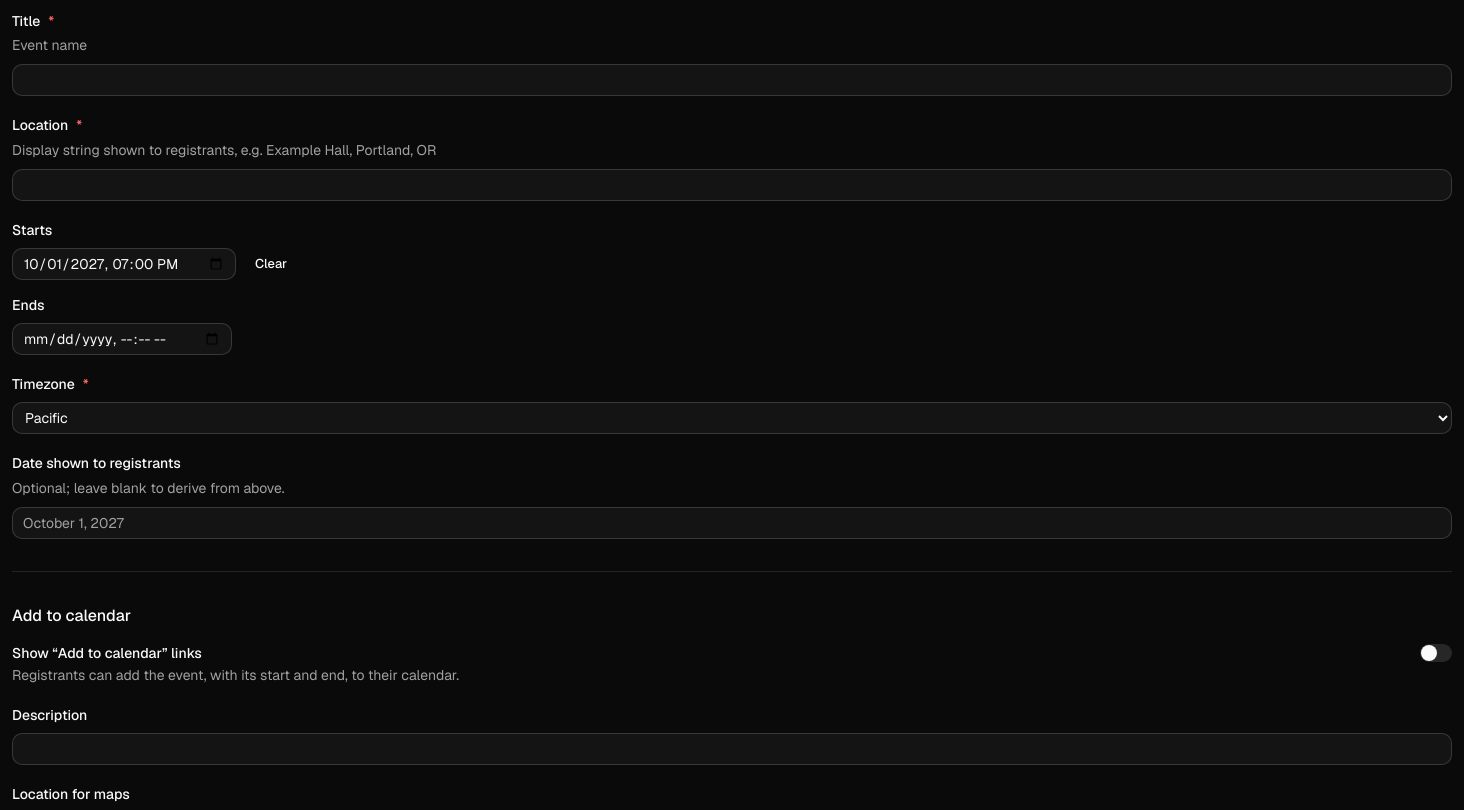
Test case: EventForm › start and end › flags an end before the start and doesn't save it
The width and height of the screenshot is (1464, 810).
Type "2027-09-30T15:00" into the field with id "event-end".
click(122, 339); type("2027-09-30T15:00")  # box [12, 323, 232, 355]
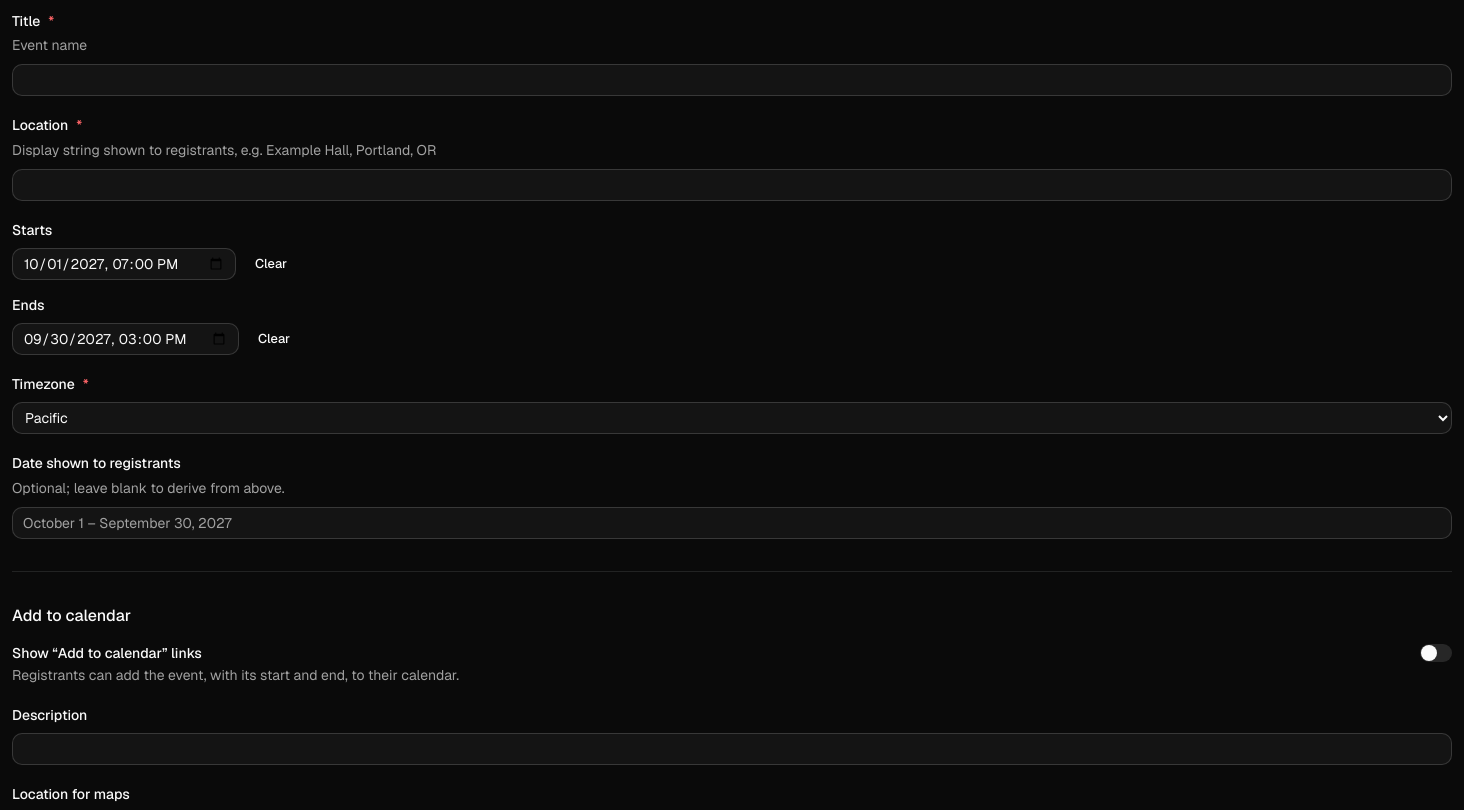
Leave the field with id "event-end", box [12, 323, 239, 355]
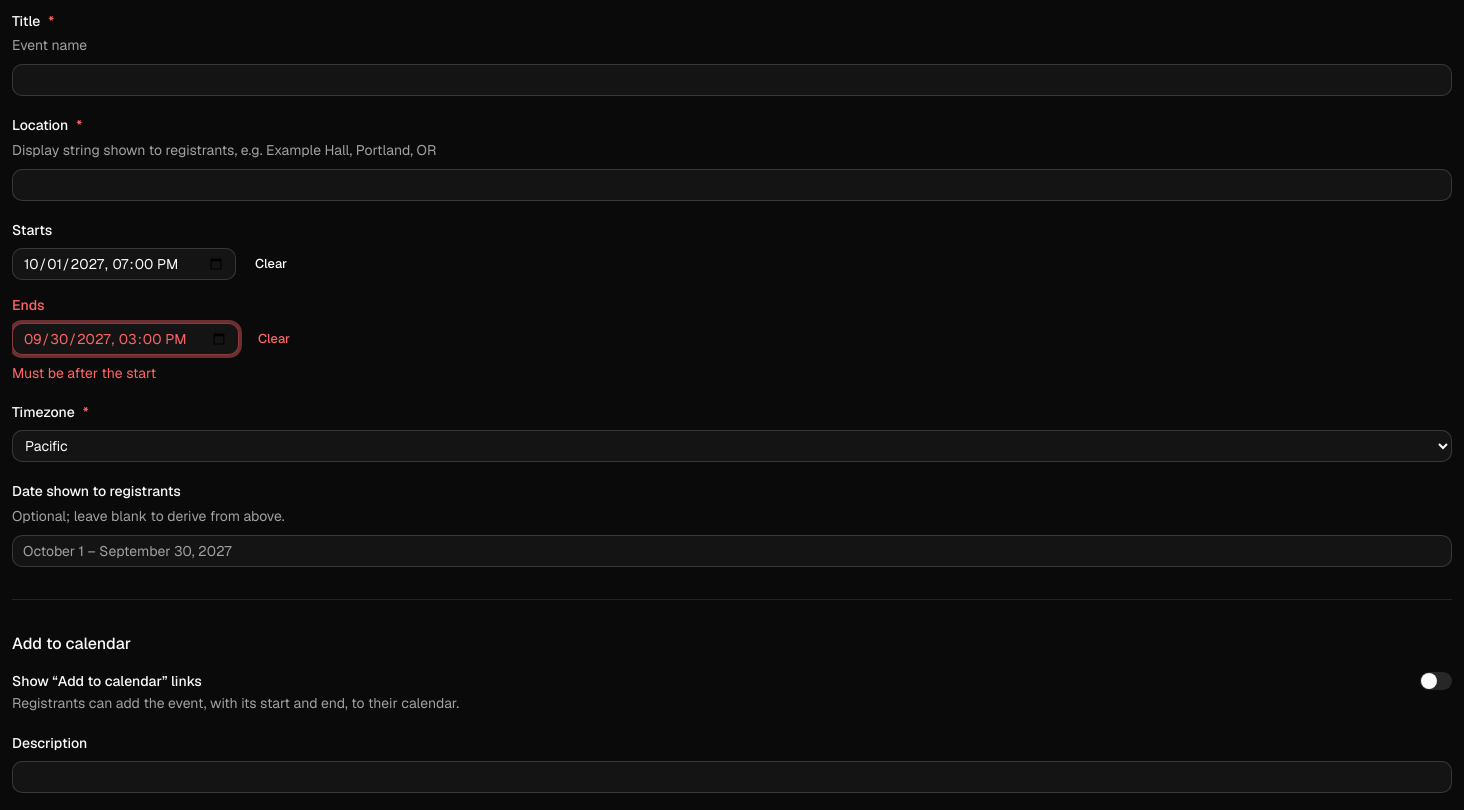
Check: the text "Must be after the start" is shown, box [12, 364, 156, 382]
